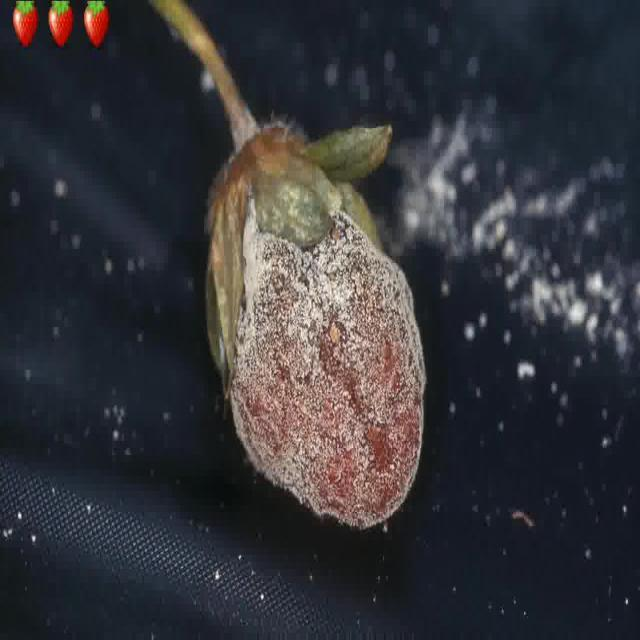Moho gris: (204, 90, 429, 528)
